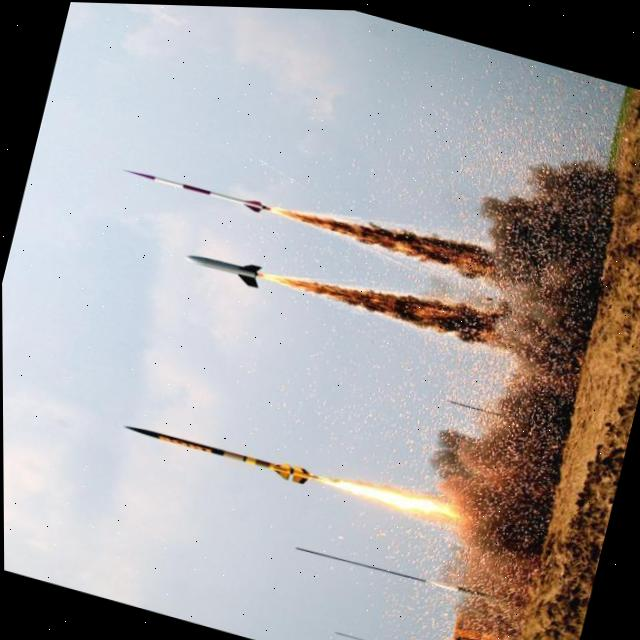missile: (121, 411, 325, 489), (116, 152, 286, 222), (175, 237, 270, 290)
